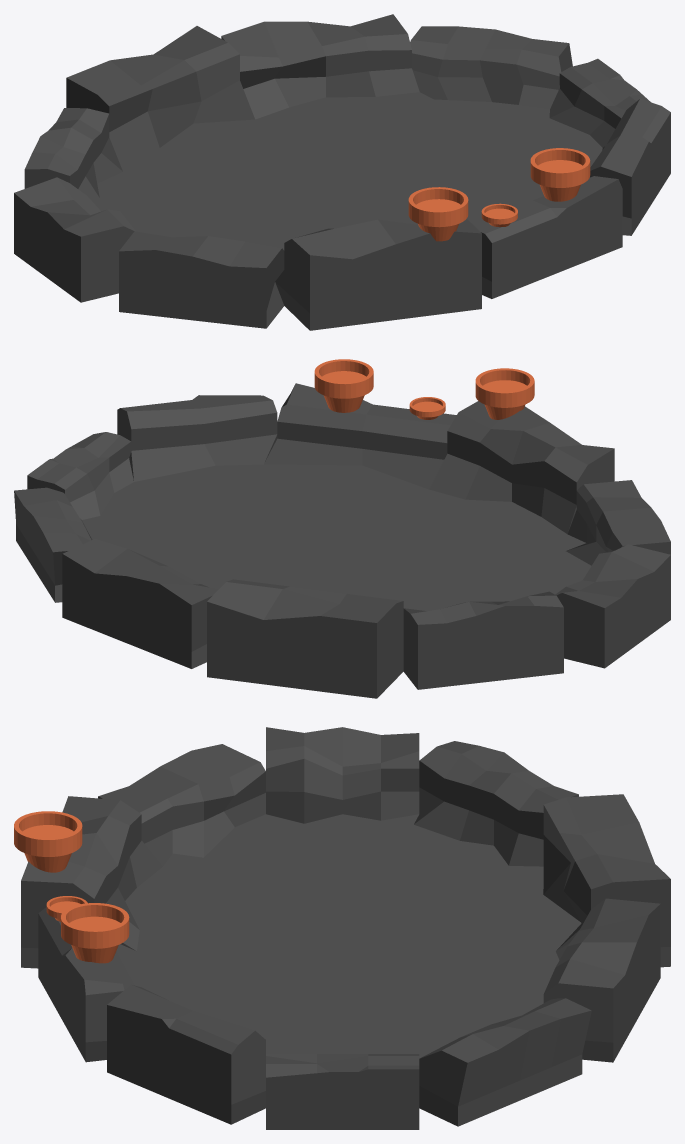
File: kolam ikan .glb
The picture shows the model from 3 angles, top to bottom: view 1: azimuth 30°, elevation 25°; view 2: azimuth 150°, elevation 25°; view 3: azimuth 270°, elevation 25°; orthographic projection. The views are drawn at different scales.
Visible parts, largest first — view 1: Cylinder, Cylinder.002, Cylinder.001, Cylinder.003; view 2: Cylinder, Cylinder.002, Cylinder.001, Cylinder.003; view 3: Cylinder, Cylinder.002, Cylinder.001.
Part boxes in pixels (<box>): Cylinder: <box>14,14,670,330</box>; Cylinder.002: <box>530,148,590,201</box>; Cylinder.001: <box>408,187,468,241</box>; Cylinder.003: <box>481,203,517,227</box>; Cylinder: <box>14,383,670,698</box>; Cylinder.002: <box>314,359,373,412</box>; Cylinder.001: <box>475,368,534,419</box>; Cylinder.003: <box>409,397,445,419</box>; Cylinder: <box>21,727,670,1129</box>; Cylinder.002: <box>61,903,129,963</box>; Cylinder.001: <box>14,811,82,872</box>.
Size of the model in its own units: 23.19 by 4.11 by 19.69.
